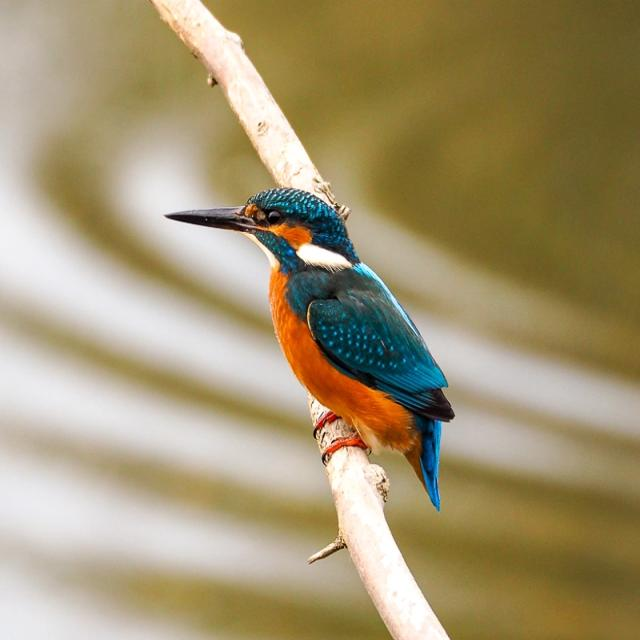kingfisher: (136, 180, 501, 530)
